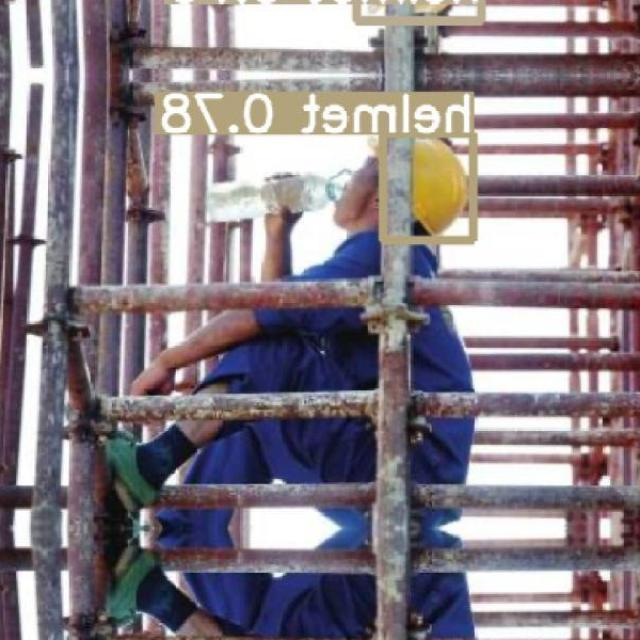helmet: (367, 134, 468, 236)
